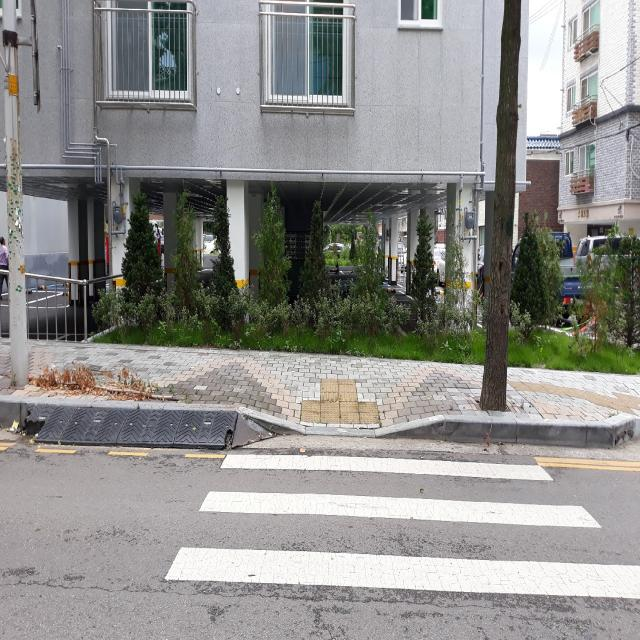횡단보도: (164, 452, 640, 600)
